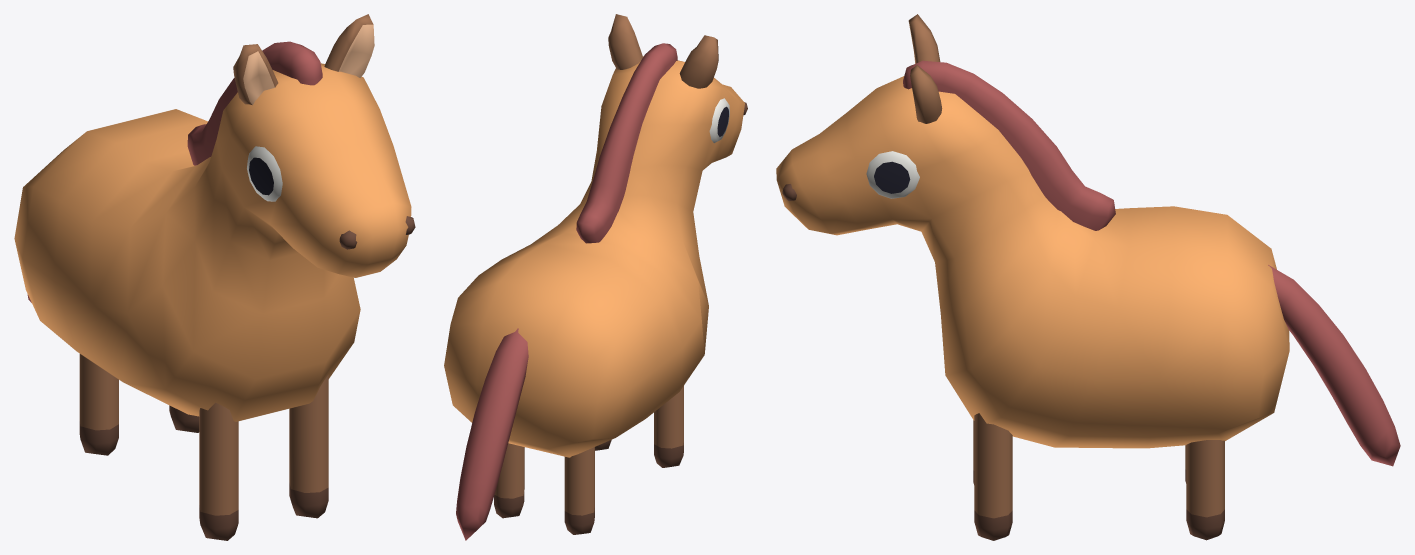
File: Horse.glb
3 renders of one model, left to right at view 1: azimuth 30°, elevation 25°; view 2: azimuth 150°, elevation 25°; view 3: azimuth 270°, elevation 25°, orthographic. The views are drawn at different scales.
Parts seen in each view (by area): view 1: Horse; view 2: Horse; view 3: Horse.
Boxes of the visible parts, bbox=[...] form: Horse: bbox=[14, 14, 415, 540]; Horse: bbox=[444, 14, 747, 540]; Horse: bbox=[776, 14, 1400, 540].
Size of the model in its own units: 1.41 by 3.01 by 3.56.
Materials: 1 (1 with a texture image).
